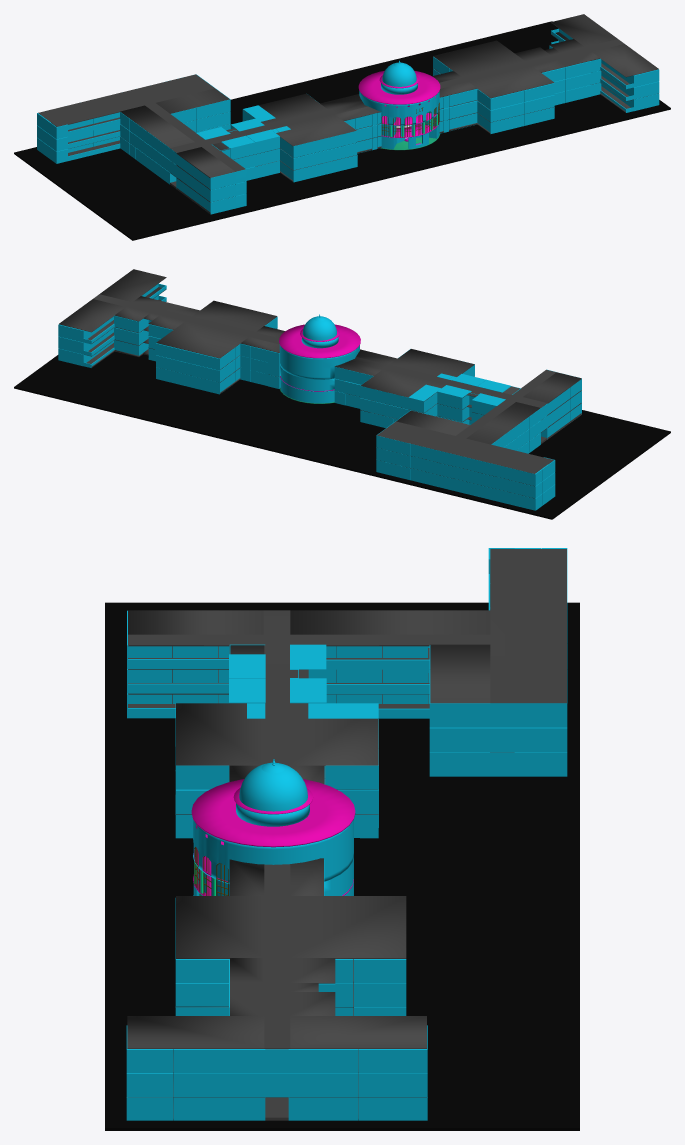
Rendered from campus.glb.
3 renders of one model, top to bottom at view 1: azimuth 30°, elevation 25°; view 2: azimuth 150°, elevation 25°; view 3: azimuth 270°, elevation 25°, orthographic. The views are drawn at different scales.
Visible parts, largest first — view 1: Cube, Plane.005, library floor.001, Circle.001, Plane.015, Sphere, Plane.002, Plane.003, Cube.131, Cube.130, 211, Cube.144 (+15 smaller); view 2: Cube, Plane.005, library floor.001, Circle.001, Cube.195, Cube.158, Cube.061, 141, 234, Cube.129, Sphere, Cube.132 (+14 smaller); view 3: Cube, Plane.005, library floor.001, Circle.001, Sphere, Cube.198, Cube.064, Cube.155, Cube.196, Cube.197, Cube.062, Cube.063 (+29 smaller).
Part boxes in pixels (bbox=[...]): Cube: bbox=[14, 21, 670, 240]; Plane.005: bbox=[38, 14, 658, 178]; library floor.001: bbox=[358, 70, 440, 104]; Circle.001: bbox=[359, 91, 439, 125]; Plane.015: bbox=[68, 86, 630, 213]; Sphere: bbox=[382, 63, 416, 86]; Plane.002: bbox=[68, 76, 658, 202]; Plane.003: bbox=[68, 32, 629, 190]; Cube.131: bbox=[221, 135, 255, 159]; Cube.130: bbox=[246, 129, 279, 154]; 211: bbox=[199, 182, 235, 202]; Cube.144: bbox=[196, 88, 230, 119]; Cube: bbox=[14, 351, 670, 519]; Plane.005: bbox=[59, 269, 581, 473]; library floor.001: bbox=[279, 324, 360, 358]; Circle.001: bbox=[279, 340, 359, 379]; Cube.195: bbox=[156, 343, 232, 370]; Cube.158: bbox=[156, 355, 232, 382]; Cube.061: bbox=[156, 367, 232, 394]; 141: bbox=[280, 379, 334, 403]; 234: bbox=[280, 366, 334, 390]; Cube.129: bbox=[408, 384, 441, 412]; Sphere: bbox=[302, 316, 336, 340]; Cube.132: bbox=[437, 385, 470, 409]; Cube: bbox=[105, 602, 579, 1130]; Plane.005: bbox=[127, 549, 566, 1048]; library floor.001: bbox=[191, 779, 355, 847]; Circle.001: bbox=[193, 819, 353, 883]; Sphere: bbox=[239, 763, 307, 811]; Cube.198: bbox=[173, 1049, 265, 1073]; Cube.064: bbox=[173, 1097, 265, 1120]; Cube.155: bbox=[173, 1073, 265, 1096]; Cube.196: bbox=[358, 1025, 427, 1073]; Cube.197: bbox=[288, 1049, 357, 1073]; Cube.062: bbox=[358, 1097, 427, 1120]; Cube.063: bbox=[288, 1097, 357, 1120].
Bounding box in the file's own units: 243 × 31.94 × 92.82.
